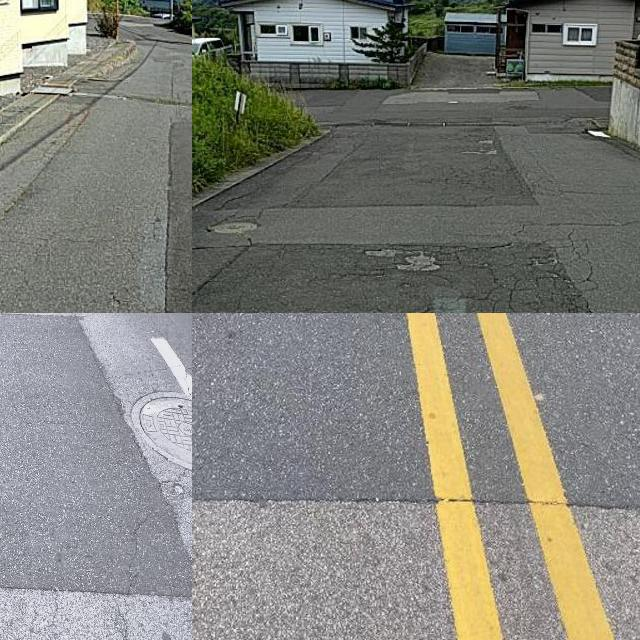Sambungan: (192, 313, 640, 523), (0, 313, 192, 593), (197, 121, 542, 209), (192, 241, 580, 313)
